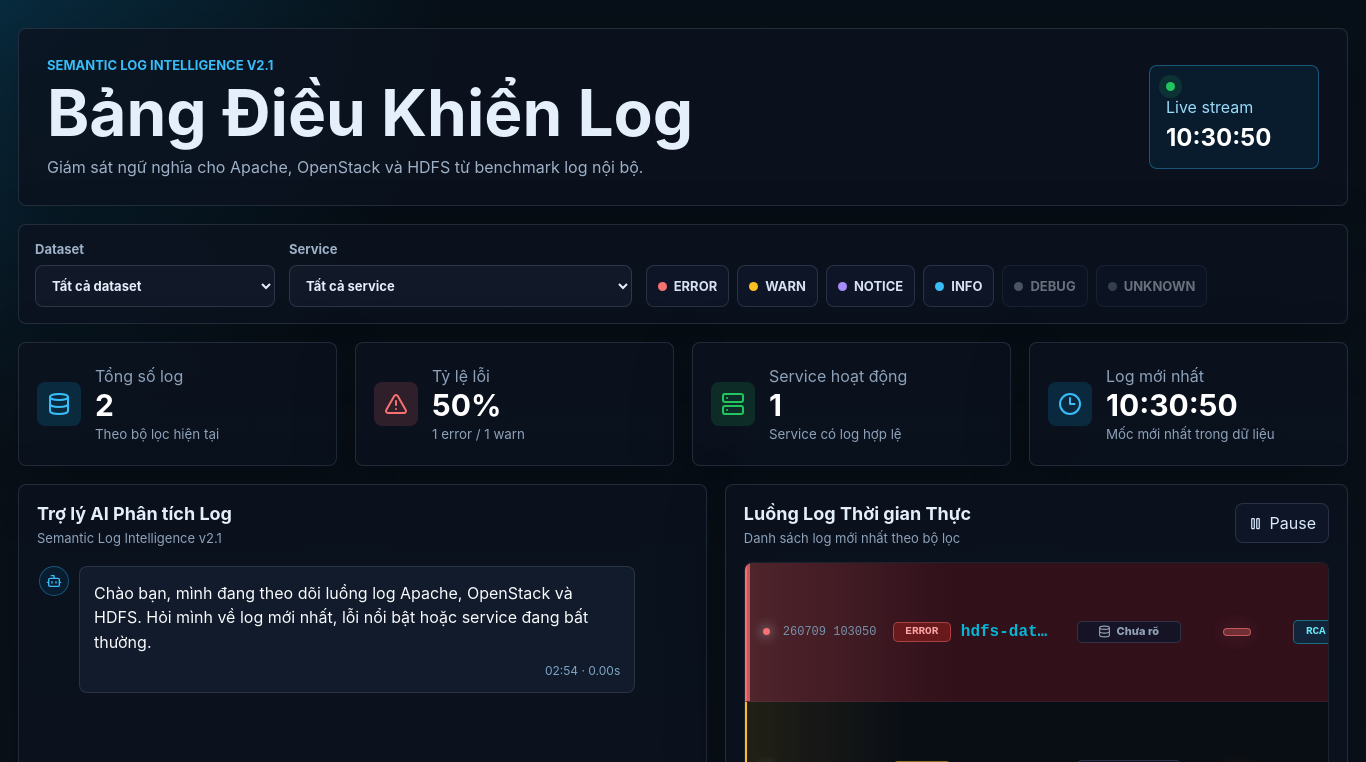
Test: Semantic log React dashboard › shows RCA for error watch rows with investigative anomaly reasons
Check: the text "WATCH" is not shown
Check: the 1st element with class "anomaly-signal" is shown, box [1223,628,1251,636]
Click the button with aria-label "RCA for anomaly hdfs:error-watch" at x=1316, y=632, box [1293,620,1339,644]
(page scrolled)
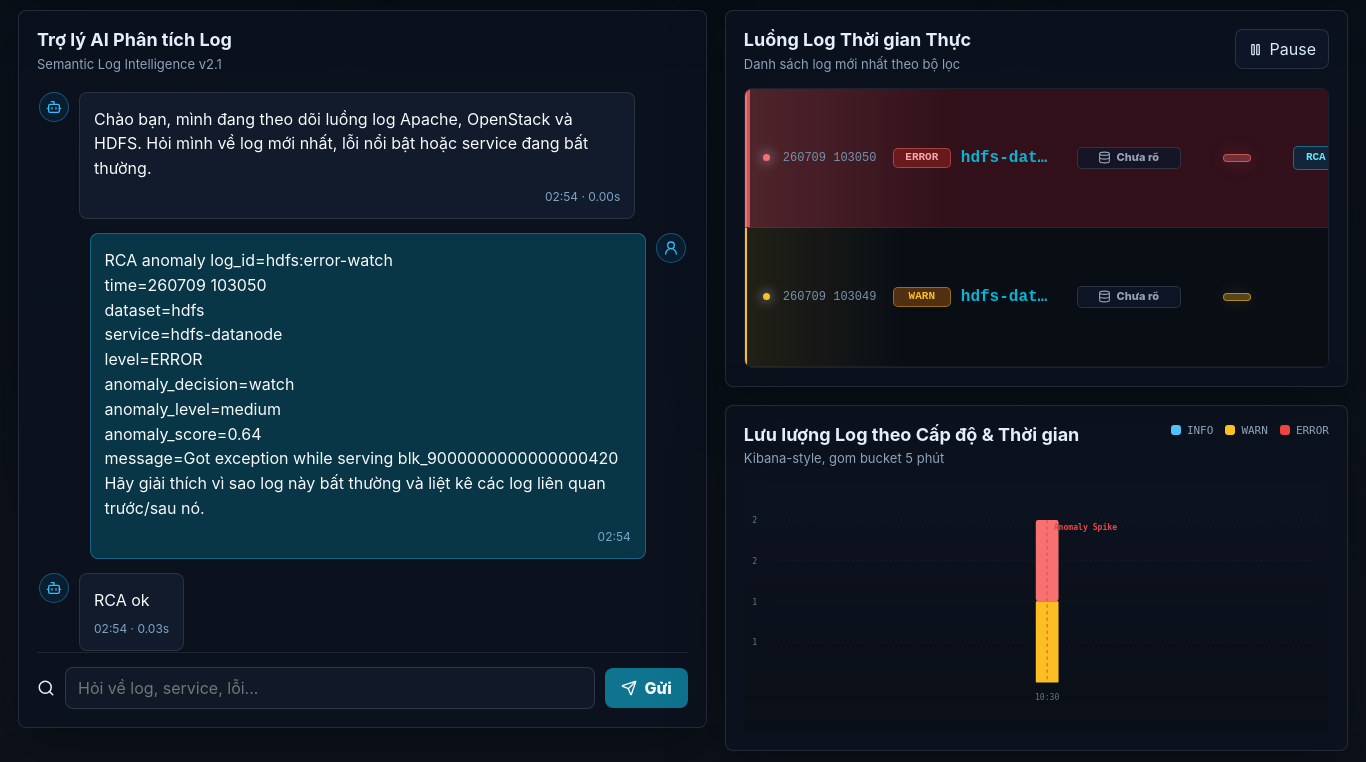
Check: the text "RCA anomaly log_id=hdfs:error-watch" is shown, box [105,250,618,518]
